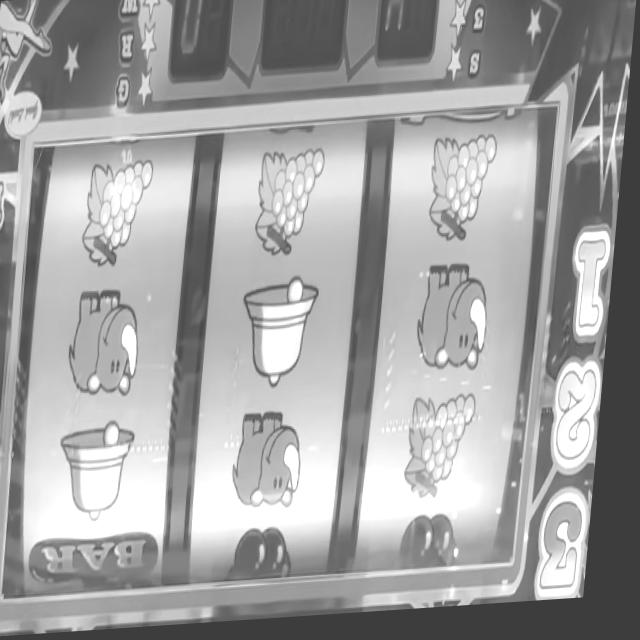bar: (35, 529, 171, 589)
bell: (242, 278, 325, 396), (62, 421, 144, 527)
cherry: (237, 528, 305, 586), (406, 519, 471, 573)
display: (2, 112, 563, 611)
elephant: (418, 263, 500, 383), (70, 284, 151, 404), (237, 413, 314, 517)
grape: (83, 151, 157, 275), (425, 137, 502, 256), (409, 394, 485, 510), (255, 149, 328, 263)
